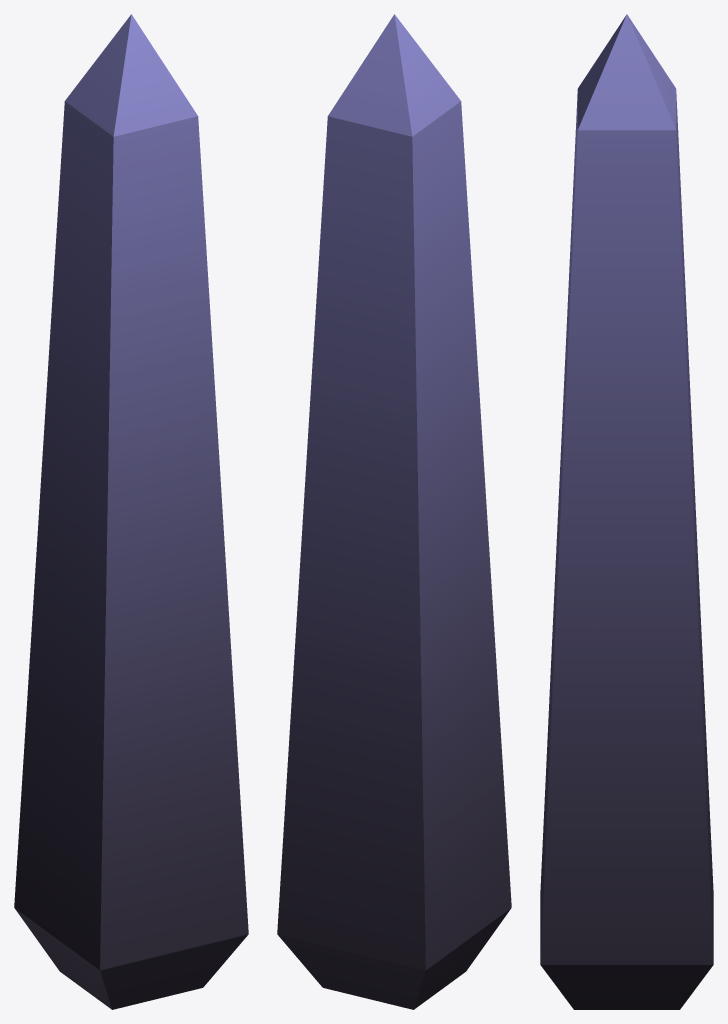
File: Monument_Municipal.fbx
3 renders of one model, left to right at view 1: azimuth 30°, elevation 25°; view 2: azimuth 150°, elevation 25°; view 3: azimuth 270°, elevation 25°, orthographic.
Parts seen in each view (by area): view 1: Monument_Municipal; view 2: Monument_Municipal; view 3: Monument_Municipal.
Part boxes in pixels (x1=…): Monument_Municipal: x1=14, y1=14, x2=248, y2=1009; Monument_Municipal: x1=277, y1=14, x2=511, y2=1009; Monument_Municipal: x1=540, y1=14, x2=713, y2=1009.
Size of the model in its own units: 319 by 1979 by 319.
